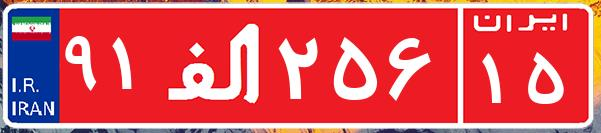1: (475, 38, 525, 113), (110, 28, 158, 105)
2: (273, 28, 330, 110)
5: (330, 28, 385, 110), (525, 38, 570, 115)
6: (385, 28, 445, 110)
9: (57, 26, 110, 107)
الف: (158, 15, 273, 115)
